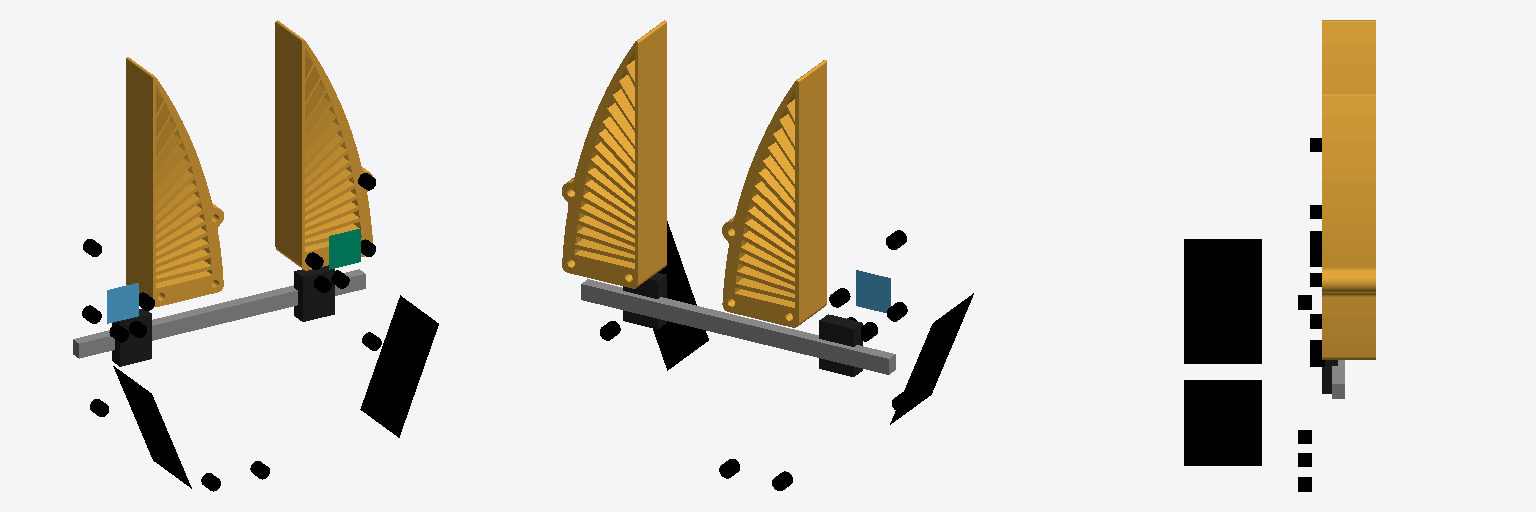
robot.urdf — umi_gripper_fixed:
<robot name="umi_gripper_fixed">
  <material name="mirror">
    <color rgba="0 0 0 1"/>
  </material>
  <material name="white">
    <color rgba="1 1 1 1"/>
  </material>
  <material name="gray">
    <color rgba="0.15 0.15 0.15 1"/>
  </material>
  <material name="light_gray">
    <color rgba="0.6 0.6 0.6 1"/>
  </material>
  <material name="orange">
    <color rgba="0.92 0.68 0.24 1"/>
  </material>
  <material name="black">
    <color rgba="0 0 0 1"/>
  </material>

  <link name="body1">
    <visual name="linear_guide_rail">
      <origin xyz="0 -0.002 0.062" rpy="0 0 0"/>
      <geometry>
        <box size="0.16 0.006 0.008"/>
      </geometry>
      <material name="light_gray"/>
    </visual>
    <visual name="left_mirror">
      <origin xyz="-0.069 -0.057 0.04" rpy="0 1.1901519891862662 0"/>
      <geometry>
        <box size="0.06 0.0374 0.0002"/>
      </geometry>
      <material name="mirror"/>
    </visual>
    <visual name="right_mirror">
      <origin xyz="0.069 -0.057 0.04" rpy="0 -1.1901519891862662 0"/>
      <geometry>
        <box size="0.06 0.0374 0.0002"/>
      </geometry>
      <material name="mirror"/>
    </visual>
    <visual>
      <geometry>
        <mesh filename="meshes/base_link.stl"/>
      </geometry>
      <material name="white"/>
    </visual>
    <visual name="left_center_base_screw">
      <origin xyz="-0.076 -0.018 0.036" rpy="-1.5707963267948968 0 0"/>
      <geometry>
        <cylinder radius="0.0035" length="0.007"/>
      </geometry>
      <material name="black"/>
    </visual>
    <visual name="right_center_base_screw">
      <origin xyz="0.076 -0.018 0.036" rpy="-1.5707963267948968 0 0"/>
      <geometry>
        <cylinder radius="0.0035" length="0.007"/>
      </geometry>
      <material name="black"/>
    </visual>
    <visual name="left_back_base_screw">
      <origin xyz="-0.0137 -0.018 -0.018" rpy="-1.5707963267948968 0 0"/>
      <geometry>
        <cylinder radius="0.0035" length="0.007"/>
      </geometry>
      <material name="black"/>
    </visual>
    <visual name="right_back_base_screw">
      <origin xyz="0.0137 -0.018 -0.018" rpy="-1.5707963267948968 0 0"/>
      <geometry>
        <cylinder radius="0.0035" length="0.007"/>
      </geometry>
      <material name="black"/>
    </visual>
    <visual>
      <origin xyz="0.01965 -0.07875 -0.0187" rpy="-1.5707963267948968 0 3.141592653589793"/>
      <geometry>
        <mesh filename="meshes/gopro.stl"/>
      </geometry>
      <material name="gray"/>
    </visual>
    <collision>
      <geometry>
        <mesh filename="meshes/base_link.stl"/>
      </geometry>
    </collision>
    <collision>
      <origin xyz="0.01965 -0.07875 -0.0187" rpy="-1.5707963267948968 0 3.141592653589793"/>
      <geometry>
        <mesh filename="meshes/gopro.stl"/>
      </geometry>
    </collision>
  </link>





  <link name="left_finger_holder">
    <inertial>
      <origin xyz="-0.0613355 0.104073 -0.0013157" rpy="-1.1769009428563746 -1.3849810823943285 2.651450192417947"/>
      <mass value="0.080081"/>
      <inertia ixx="0.000104597" ixy="0" ixz="0" iyy="0.000102992" iyz="0" izz="0.0000190532"/>
    </inertial>
    <visual name="left_screw_back_outside">
      <origin xyz="-0.0515 0.07 0.012" rpy="0 0 0"/>
      <geometry>
        <cylinder radius="0.0035" length="0.007"/>
      </geometry>
      <material name="black"/>
    </visual>
    <visual name="left_screw_back_inside">
      <origin xyz="-0.0615 0.07 0.012" rpy="0 0 0"/>
      <geometry>
        <cylinder radius="0.0035" length="0.007"/>
      </geometry>
      <material name="black"/>
    </visual>
    <visual name="left_screw_middle_outside">
      <origin xyz="-0.0768 0.0835 0.012" rpy="0 0 0"/>
      <geometry>
        <cylinder radius="0.0035" length="0.007"/>
      </geometry>
      <material name="black"/>
    </visual>
    <visual name="left_screw_middle_inside">
      <origin xyz="-0.047 0.0835 0.012" rpy="0 0 0"/>
      <geometry>
        <cylinder radius="0.0035" length="0.007"/>
      </geometry>
      <material name="black"/>
    </visual>
    <visual name="left_screw_front">
      <origin xyz="-0.0764 0.119 0.012" rpy="0 0 0"/>
      <geometry>
        <cylinder radius="0.0035" length="0.007"/>
      </geometry>
      <material name="black"/>
    </visual>
    <visual name="left_rail_block">
      <origin xyz="-0.051 0.063 0.006" rpy="0 0 0"/>
      <geometry>
        <box size="0.018 0.024 0.008"/>
      </geometry>
      <material name="gray"/>
    </visual>
    <visual name="left_marker">
      <origin xyz="-0.062 0.088 0.0164" rpy="0 0 0"/>
      <geometry>
        <box size="0.018 0.018 0.00002"/>
      </geometry>
    </visual>
    <visual>
      <geometry>
        <mesh filename="meshes/left_finger_holder.stl"/>
      </geometry>
      <material name="white"/>
    </visual>
    <visual>
      <origin xyz="-0.041722 0.0779 -0.0159" rpy="-1.5707963267948968 0 3.141592653589793"/>
      <geometry>
        <mesh filename="meshes/left_finger.stl"/>
      </geometry>
      <material name="orange"/>
    </visual>
    <collision>
      <geometry>
        <mesh filename="meshes/left_finger_holder.stl"/>
      </geometry>
    </collision>
    <collision>
      <origin xyz="-0.041722 0.0779 -0.0159" rpy="-1.5707963267948968 0 3.141592653589793"/>
      <geometry>
        <mesh filename="meshes/left_finger.stl"/>
      </geometry>
    </collision>
  </link>
  <link name="right_finger_holder">
    <inertial>
      <origin xyz="0.0613353 0.104073 -0.00131574" rpy="1.1769464976769313 -1.384964732758037 0.4901050283343764"/>
      <mass value="0.080081"/>
      <inertia ixx="0.000104597" ixy="0" ixz="0" iyy="0.000102992" iyz="0" izz="0.0000190532"/>
    </inertial>
    <visual name="right_screw_back_outside">
      <origin xyz="0.0515 0.07 0.012" rpy="0 0 0"/>
      <geometry>
        <cylinder radius="0.0035" length="0.007"/>
      </geometry>
      <material name="black"/>
    </visual>
    <visual name="right_screw_back_inside">
      <origin xyz="0.0615 0.07 0.012" rpy="0 0 0"/>
      <geometry>
        <cylinder radius="0.0035" length="0.007"/>
      </geometry>
      <material name="black"/>
    </visual>
    <visual name="right_screw_middle_outside">
      <origin xyz="0.0764 0.0835 0.012" rpy="0 0 0"/>
      <geometry>
        <cylinder radius="0.0035" length="0.007"/>
      </geometry>
      <material name="black"/>
    </visual>
    <visual name="right_screw_middle_inside">
      <origin xyz="0.047 0.0835 0.012" rpy="0 0 0"/>
      <geometry>
        <cylinder radius="0.0035" length="0.007"/>
      </geometry>
      <material name="black"/>
    </visual>
    <visual name="right_screw_front">
      <origin xyz="0.0764 0.119 0.012" rpy="0 0 0"/>
      <geometry>
        <cylinder radius="0.0035" length="0.007"/>
      </geometry>
      <material name="black"/>
    </visual>
    <visual name="right_rail_block">
      <origin xyz="0.051 0.063 0.006" rpy="0 0 0"/>
      <geometry>
        <box size="0.018 0.024 0.008"/>
      </geometry>
      <material name="gray"/>
    </visual>
    <visual name="right_marker">
      <origin xyz="0.062 0.088 0.0164" rpy="0 0 0"/>
      <geometry>
        <box size="0.018 0.018 0.00002"/>
      </geometry>
    </visual>
    <visual>
      <geometry>
        <mesh filename="meshes/right_finger_holder.stl"/>
      </geometry>
      <material name="white"/>
    </visual>
    <visual>
      <origin xyz="0.041722 0.0779 0.0099" rpy="1.5707963267948968 0 0"/>
      <geometry>
        <mesh filename="meshes/right_finger.stl"/>
      </geometry>
      <material name="orange"/>
    </visual>
    <collision>
      <geometry>
        <mesh filename="meshes/right_finger_holder.stl"/>
      </geometry>
    </collision>
    <collision>
      <origin xyz="0.041722 0.0779 0.0099" rpy="1.5707963267948968 0 0"/>
      <geometry>
        <mesh filename="meshes/right_finger.stl"/>
      </geometry>
    </collision>
  </link>






  <joint name="left_finger_joint" type="prismatic">
    <origin xyz="0 0 0" rpy="1.5707963267948968 0 0"/>
    <parent link="body1"/>
    <child link="left_finger_holder"/>
    <axis xyz="1 0 0"/>
    <limit lower="0" upper="0.05" effort="0" velocity="0"/>
    <dynamics damping="10.1" friction="0.1"/>
  </joint>
  <joint name="right_finger_joint" type="prismatic">
    <origin xyz="0 0 0" rpy="1.5707963267948968 0 0"/>
    <parent link="body1"/>
    <child link="right_finger_holder"/>
    <axis xyz="-1 0 0"/>
    <limit lower="0" upper="0.05" effort="0" velocity="0"/>
    <dynamics damping="10.1" friction="0.1"/>
  </joint>
</robot>

--- What the picture shows (computed from the rendered views, not written in the file) ---
The picture shows the robot from 3 angles, left to right: view 1: azimuth 30°, elevation 25°; view 2: azimuth 150°, elevation 25°; view 3: azimuth 270°, elevation 25°; orthographic projection.
Robot: umi_gripper_fixed — 3 links, 2 joints (2 prismatic); root link body1; default pose: all joints at 0.
Links seen in each view (by area): view 1: left_finger_holder, right_finger_holder, body1; view 2: left_finger_holder, right_finger_holder, body1; view 3: body1, right_finger_holder, left_finger_holder.
Boxes of the visible links, left/top/right/bottom form: left_finger_holder: left=82, top=57, right=223, bottom=366; right_finger_holder: left=275, top=20, right=375, bottom=321; body1: left=73, top=269, right=438, bottom=491; left_finger_holder: left=722, top=60, right=907, bottom=376; right_finger_holder: left=562, top=20, right=669, bottom=328; body1: left=581, top=221, right=973, bottom=490; body1: left=1184, top=239, right=1344, bottom=491; right_finger_holder: left=1310, top=94, right=1375, bottom=393; left_finger_holder: left=1310, top=20, right=1375, bottom=266.
Bounding box of the posed robot: 0.162 × 0.0916 × 0.2228 m (x, y, z).
Meshes: 6 distinct files referenced, 2 mesh visuals loaded (2 binary STL); not drawn: 4 (reference not matched to a file when rendering).
